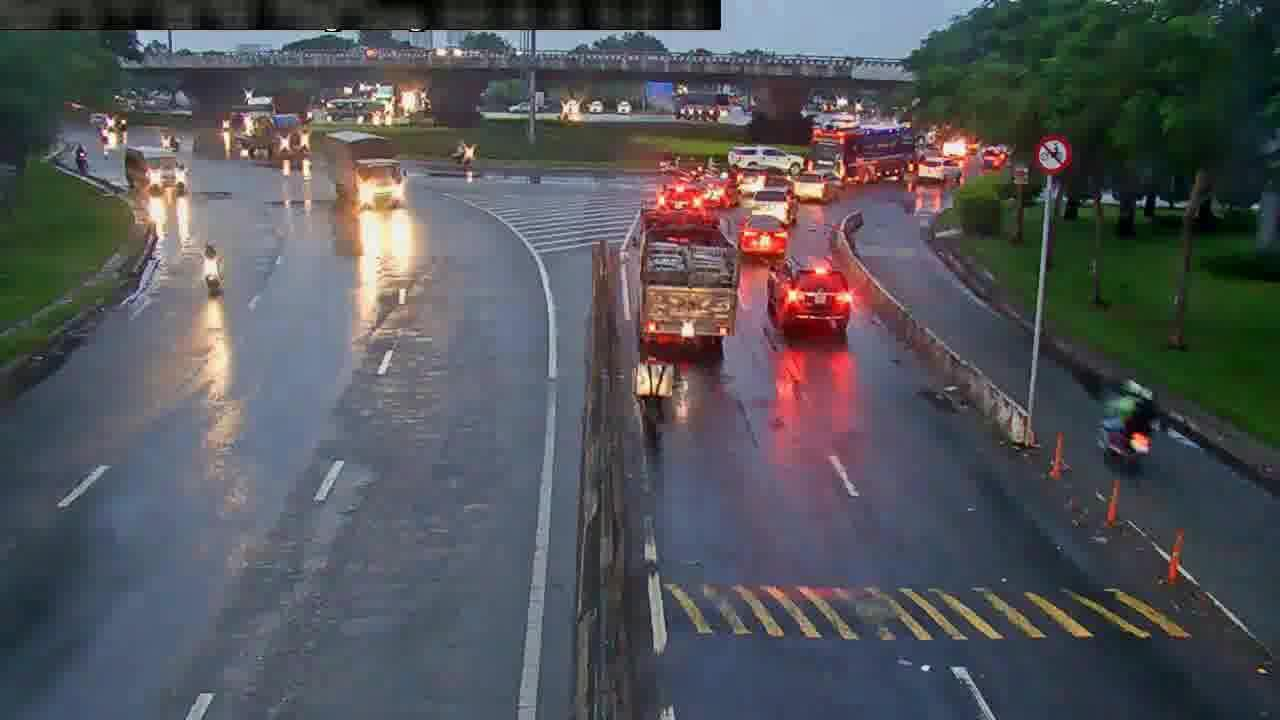car: (763, 251, 852, 332), (727, 138, 815, 175), (748, 184, 804, 224), (785, 167, 844, 201), (742, 218, 790, 253), (916, 153, 962, 185), (655, 181, 706, 207)
container: (633, 198, 730, 354), (317, 128, 406, 213)
motorbike: (1099, 380, 1151, 465), (634, 346, 672, 426), (195, 239, 230, 300), (447, 137, 475, 170), (72, 144, 91, 171)
passenger_car: (814, 126, 922, 179), (123, 144, 184, 192)
